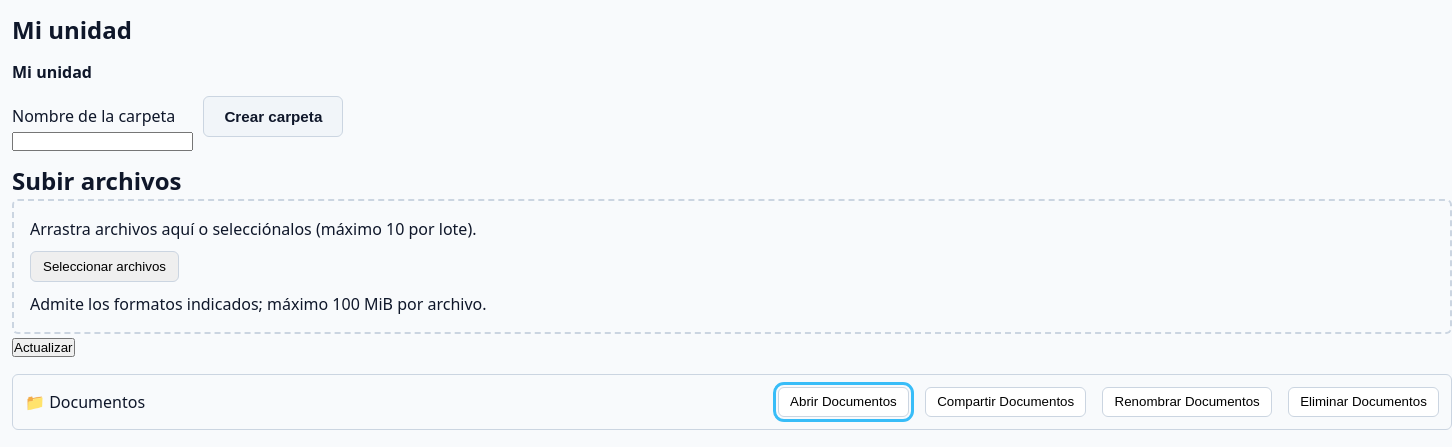
Test: crea en la ubicación abierta, apunta la carga al destino y permite volver a la raíz
Later steps or results of the test are not shown.
Click the button "Abrir Documentos": (843,402) x1=778 y1=387 x2=909 y2=417
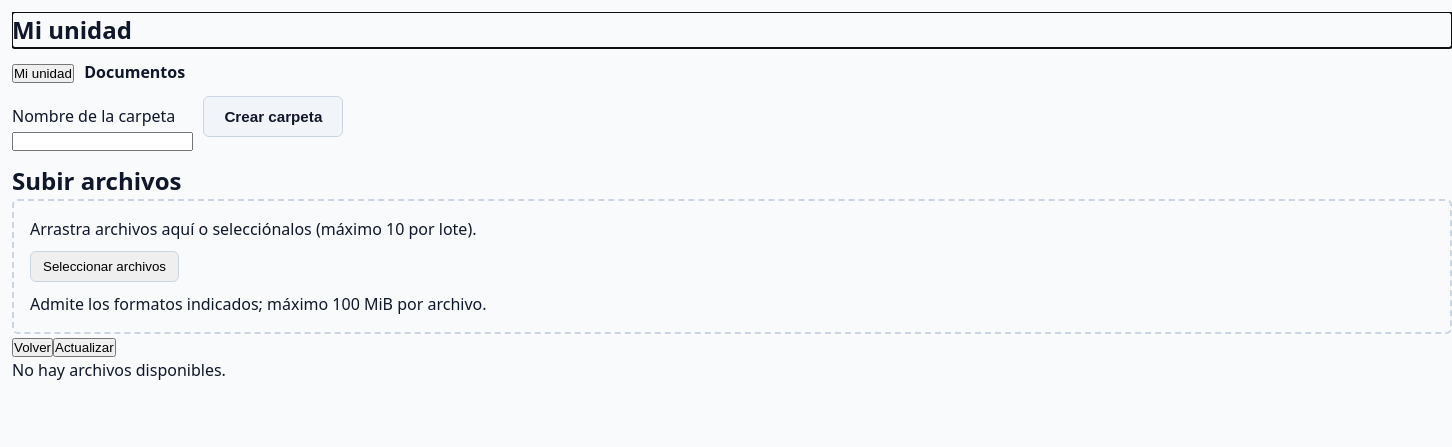
Now the navigation bar named "Ubicación actual" shows "Documentos", box x1=84 y1=61 x2=185 y2=83
Now the text "No hay archivos disponibles." is shown, box x1=12 y1=359 x2=226 y2=381
In the field labelled "Nombre de la carpeta": (102,142) x1=12 y1=132 x2=193 y2=151, type "  Nueva  "
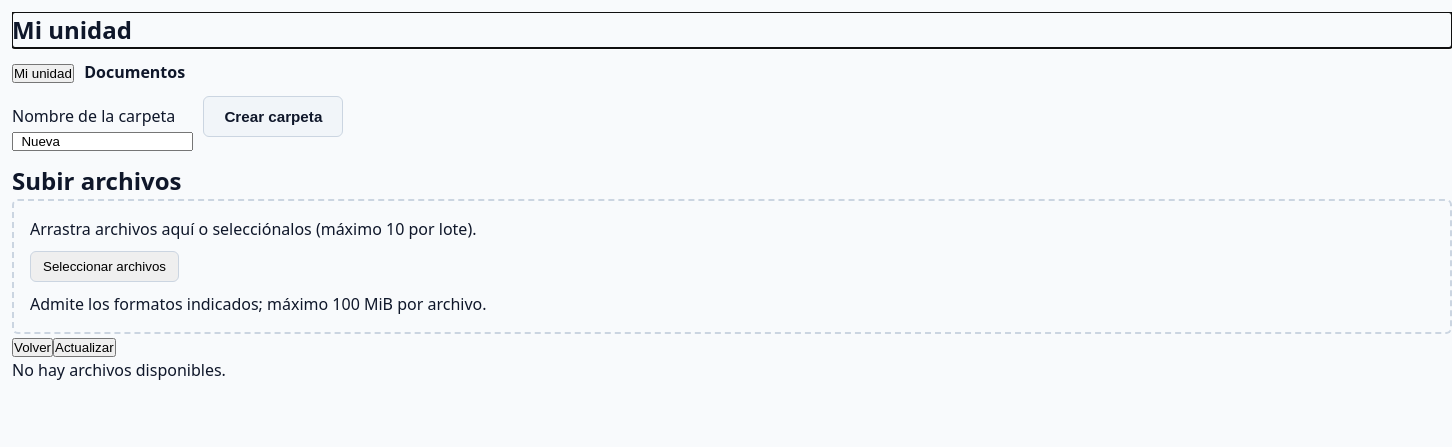
Click the button "Crear carpeta": (273,117) x1=203 y1=96 x2=343 y2=137
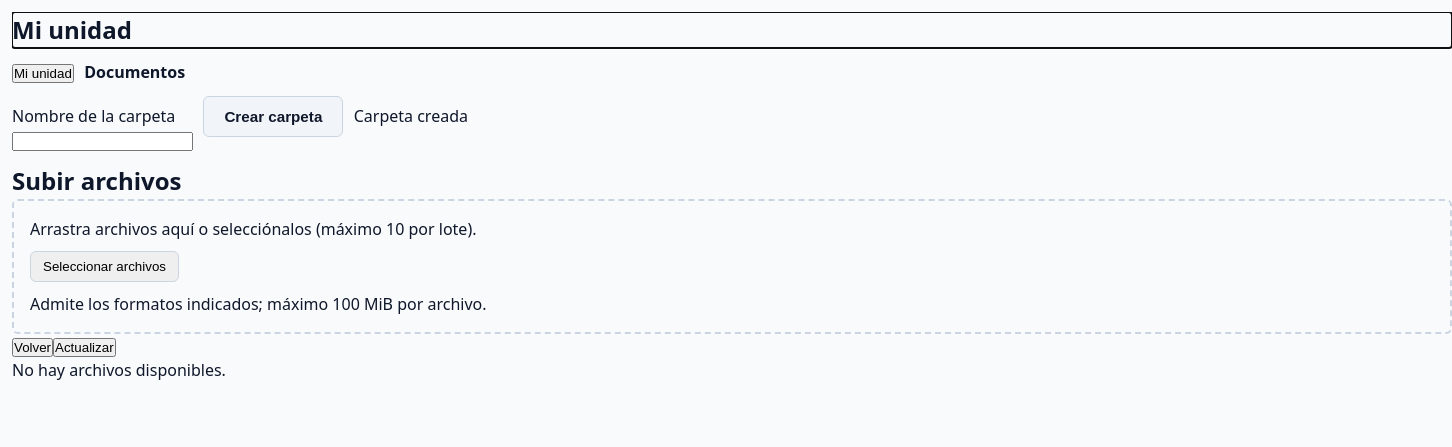
Now the text "Carpeta creada" is shown, box x1=354 y1=104 x2=468 y2=128
